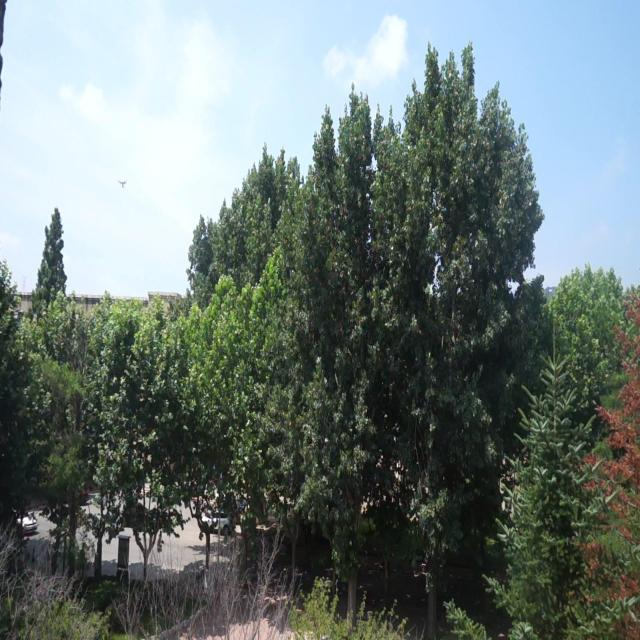drone: (116, 177, 128, 191)
